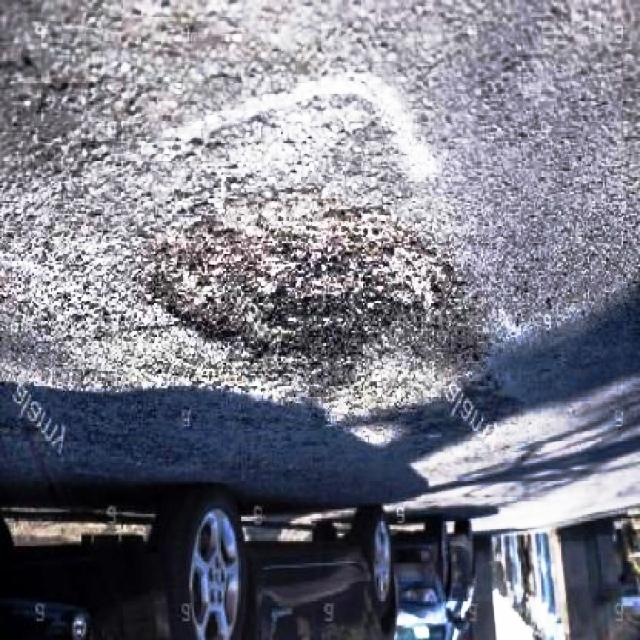pothole: (144, 208, 482, 377)
